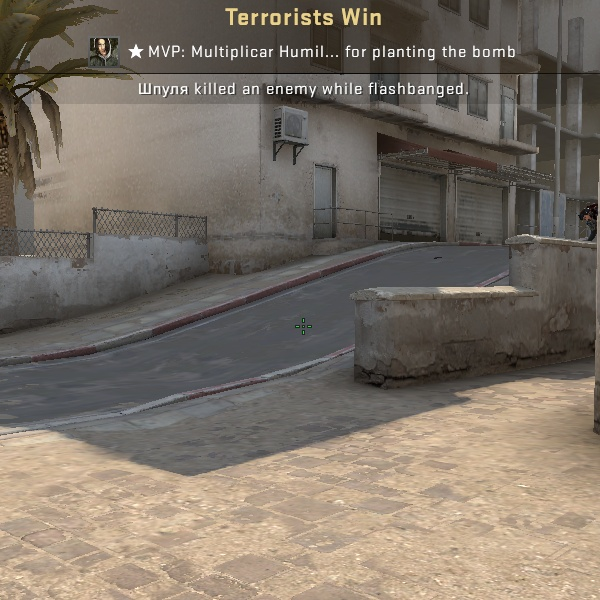ct_body: (578, 196, 598, 244)
ct_head: (577, 205, 594, 224)
